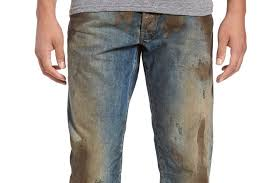earth: (196, 120, 209, 180), (71, 147, 89, 183), (200, 15, 212, 40), (195, 61, 212, 78), (164, 16, 182, 32), (114, 13, 132, 29)
